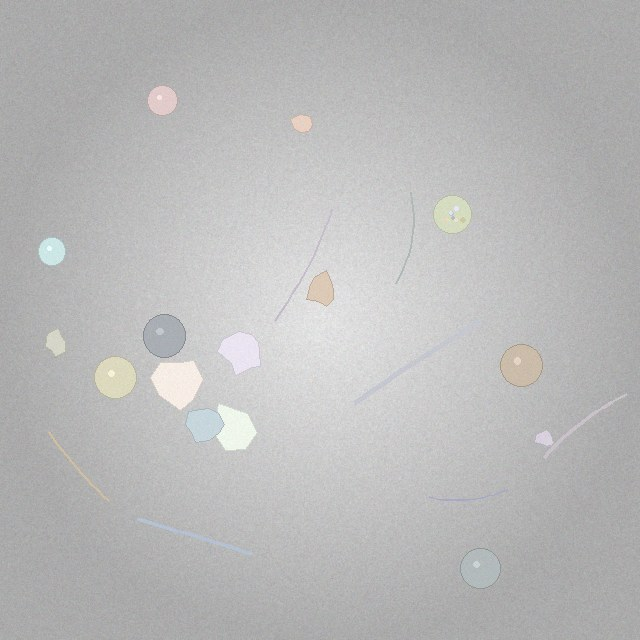fiber: (348, 316, 488, 410), (272, 206, 335, 324), (541, 391, 630, 461), (133, 514, 256, 558), (46, 429, 110, 503), (393, 190, 415, 286), (427, 487, 510, 504)
foam: (433, 196, 471, 234)
fragment: (151, 360, 204, 411), (214, 403, 257, 451), (218, 332, 260, 376), (185, 409, 225, 443), (307, 271, 334, 307), (46, 329, 66, 356), (291, 115, 313, 133), (535, 430, 554, 447)
pellet: (94, 356, 137, 399), (143, 315, 186, 357), (501, 344, 543, 386), (460, 549, 501, 589), (148, 86, 178, 115), (38, 238, 66, 265)
